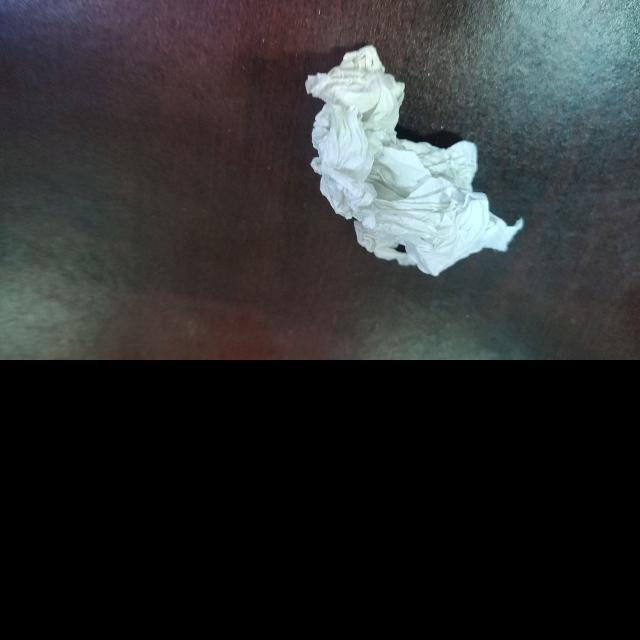kitchen paper: (301, 35, 530, 286)
